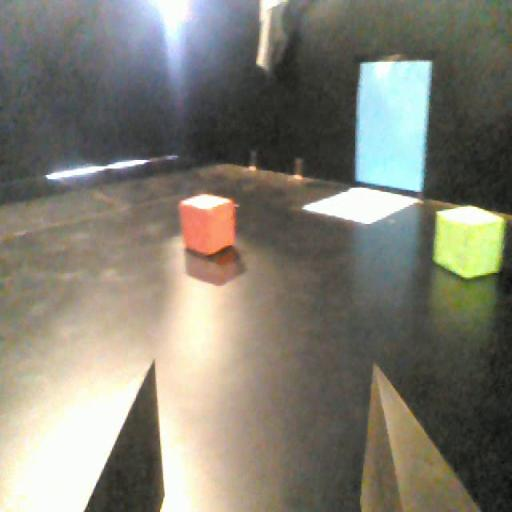cube: (433, 200, 505, 285), (177, 191, 242, 261)
